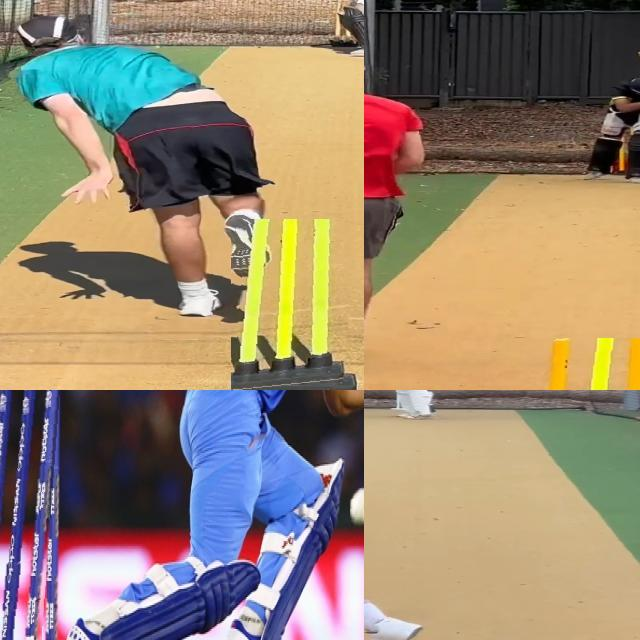Cricket ball: (0, 390, 62, 640), (350, 483, 364, 529)
Stumps: (231, 219, 357, 390), (532, 338, 640, 390)
